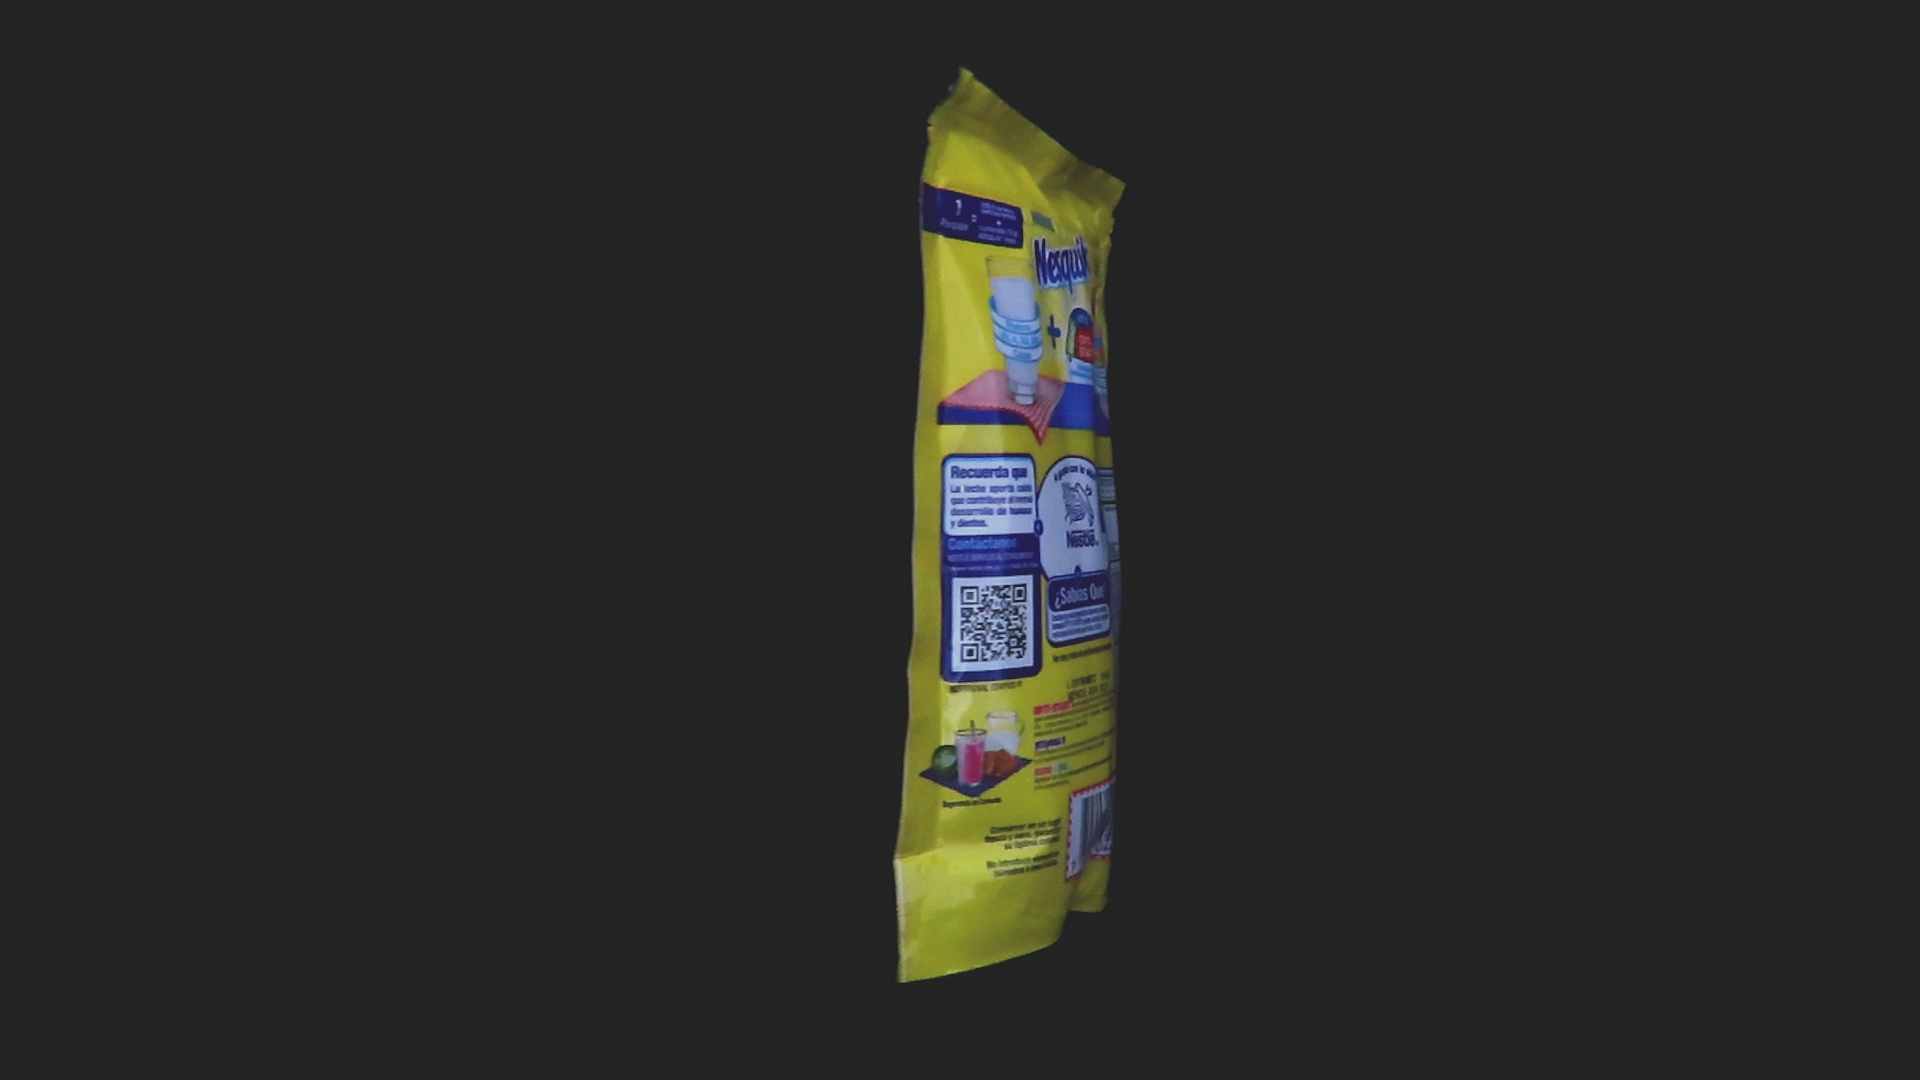COL0170305DYP20000: (887, 62, 1131, 989)
